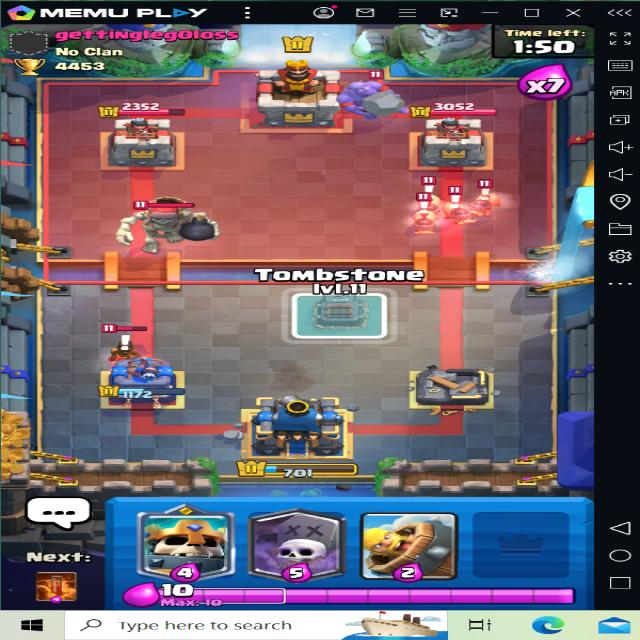bowler: (334, 76, 407, 128)
giant-skeleton: (108, 187, 222, 246)
ram-rider: (96, 316, 160, 370)
royal-hogs: (405, 198, 439, 237), (443, 186, 473, 226), (471, 177, 500, 218), (421, 179, 446, 210)
